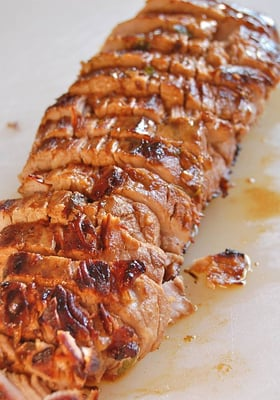soup: (1, 2, 277, 397)
